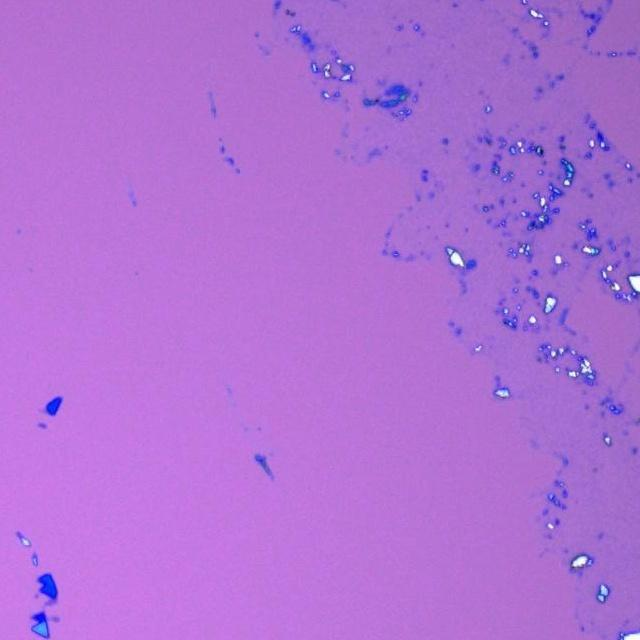monolayer-eWW4: (44, 598, 56, 606), (52, 616, 60, 624)
